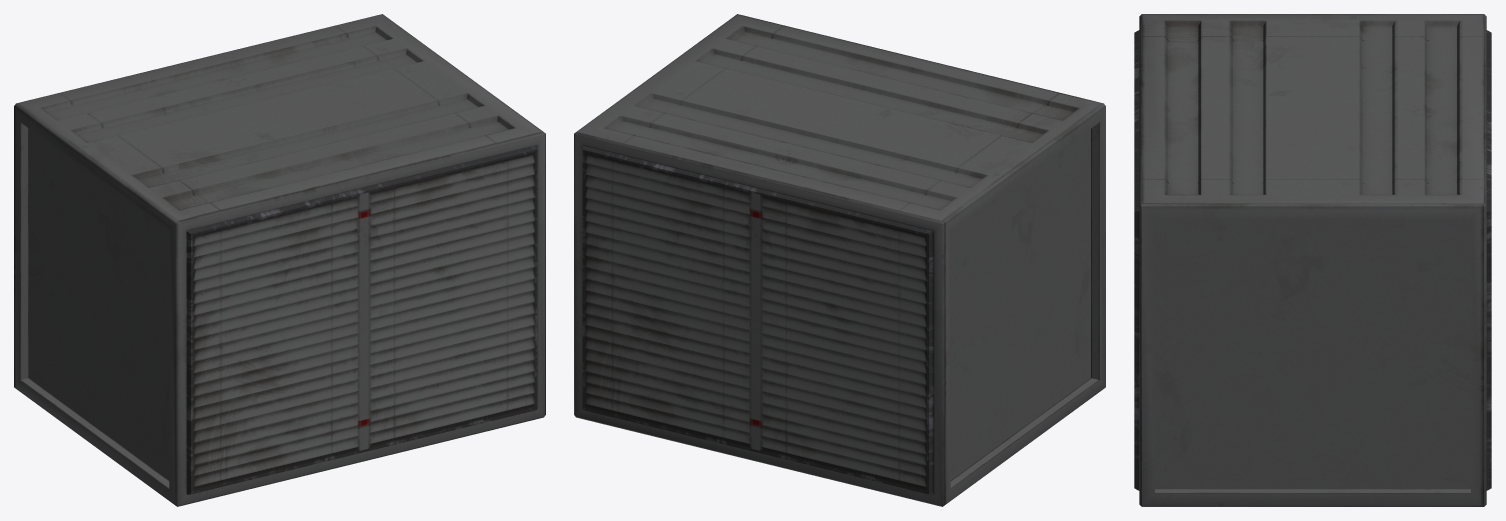
The model's file is Subway_Vents1.fbx.
3 renders of one model, left to right at view 1: azimuth 30°, elevation 25°; view 2: azimuth 150°, elevation 25°; view 3: azimuth 270°, elevation 25°, orthographic. The views are drawn at different scales.
Parts seen in each view (by area): view 1: polySurface774; view 2: polySurface774; view 3: polySurface774.
Part boxes in pixels (x1,y1,x2,y2): polySurface774: [14, 14, 545, 506]; polySurface774: [574, 14, 1105, 506]; polySurface774: [1134, 14, 1491, 506].
Size of the model in its own units: 108 by 79.51 by 84.91.
